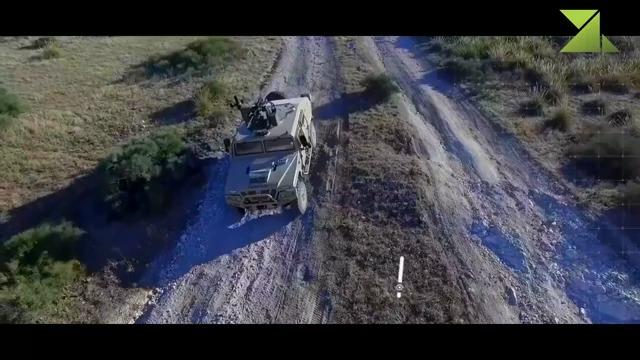MIL_HMMWV: (224, 94, 320, 220)
